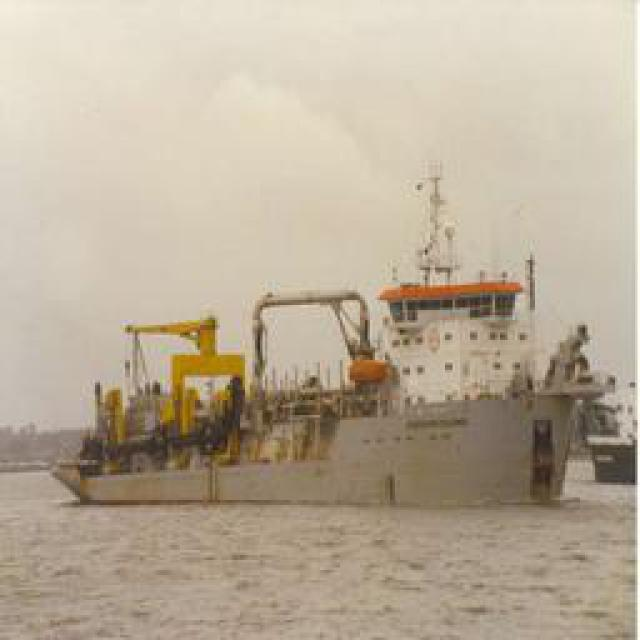Ship: (47, 156, 603, 519)
